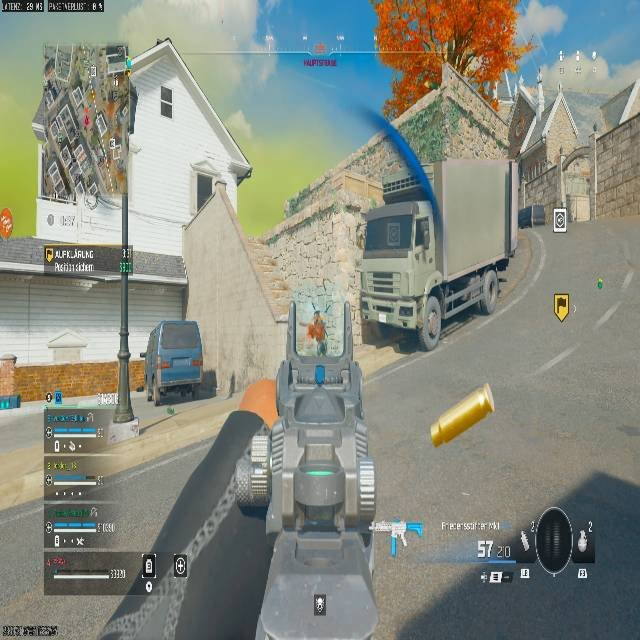head: (312, 312, 321, 322)
player: (307, 312, 326, 355)
